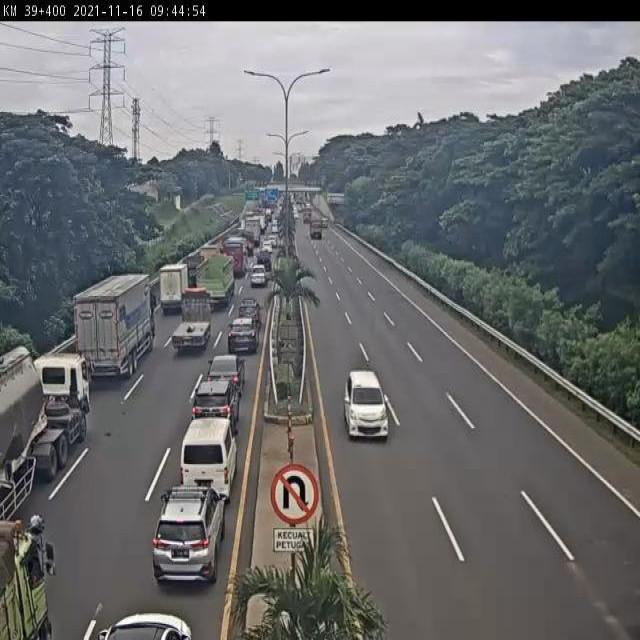big bus: (214, 240, 244, 284)
car: (152, 488, 224, 584), (344, 371, 390, 440), (188, 382, 236, 446), (205, 355, 242, 397), (226, 315, 258, 353), (235, 298, 262, 330), (247, 260, 268, 288)
small bus: (180, 419, 235, 500)
truck-l-: (74, 275, 154, 384), (194, 256, 236, 311)
truck-m-: (172, 293, 213, 352), (159, 258, 190, 306), (178, 251, 207, 293)
truck-xl-: (0, 343, 92, 532)
